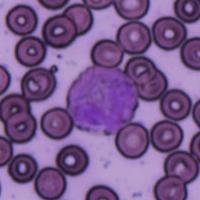E: (67, 66, 138, 134)
